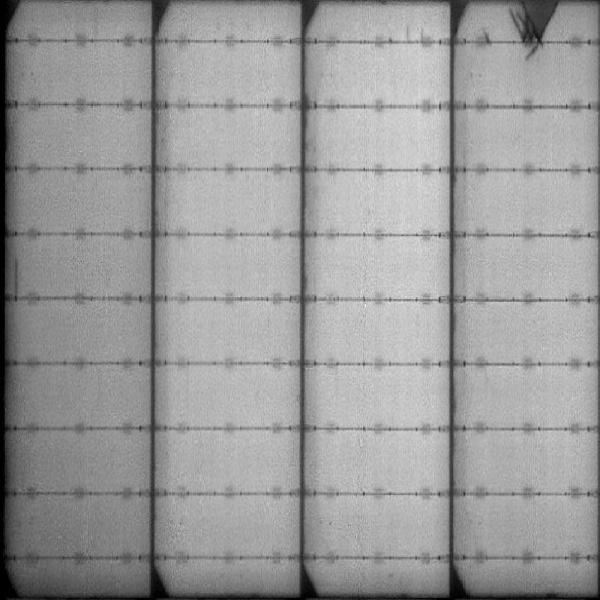broken: (509, 1, 557, 61)
scratch: (7, 251, 24, 299)
